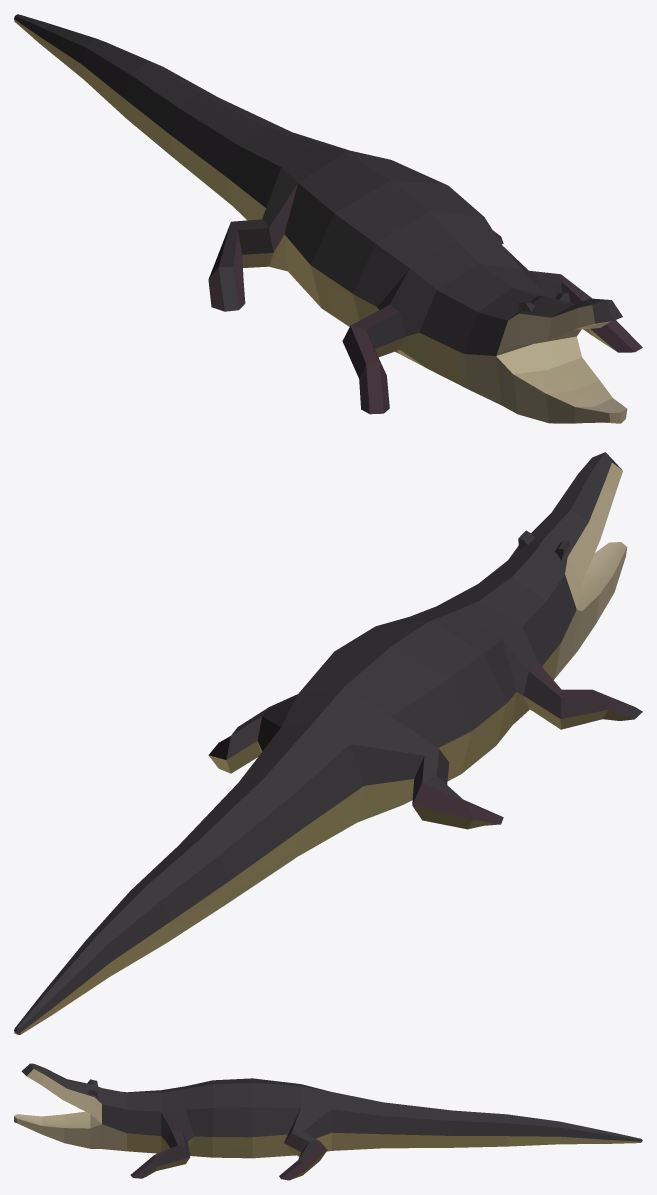
Rendered from croc.glb.
The picture shows the model from 3 angles, top to bottom: view 1: azimuth 30°, elevation 25°; view 2: azimuth 150°, elevation 25°; view 3: azimuth 270°, elevation 25°; orthographic projection. The views are drawn at different scales.
Parts seen in each view (by area): view 1: Geo_Crocodile; view 2: Geo_Crocodile; view 3: Geo_Crocodile.
Part boxes in pixels (bbox=[...]): Geo_Crocodile: bbox=[14, 14, 642, 423]; Geo_Crocodile: bbox=[14, 452, 642, 1034]; Geo_Crocodile: bbox=[14, 1063, 642, 1180].
Bounding box in the file's own units: 69.88 × 36.65 × 253.
1 material, 1 textured.
